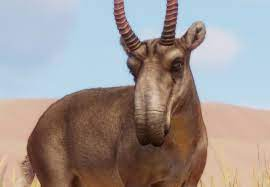saiga: (20, 1, 210, 187)
